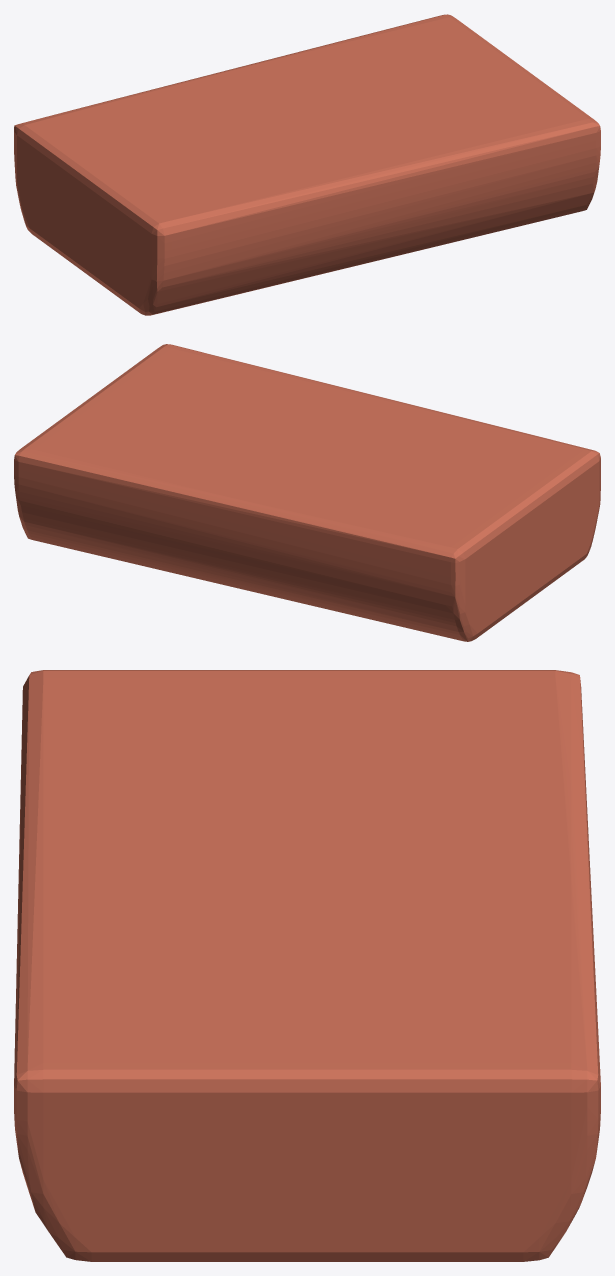
Rendered from left_elbow_link_part_9.obj.
The picture shows the model from 3 angles, top to bottom: view 1: azimuth 30°, elevation 25°; view 2: azimuth 150°, elevation 25°; view 3: azimuth 270°, elevation 25°; orthographic projection. The views are drawn at different scales.
Size of the model in its own units: 0.0905 by 0.0196 by 0.0544.
